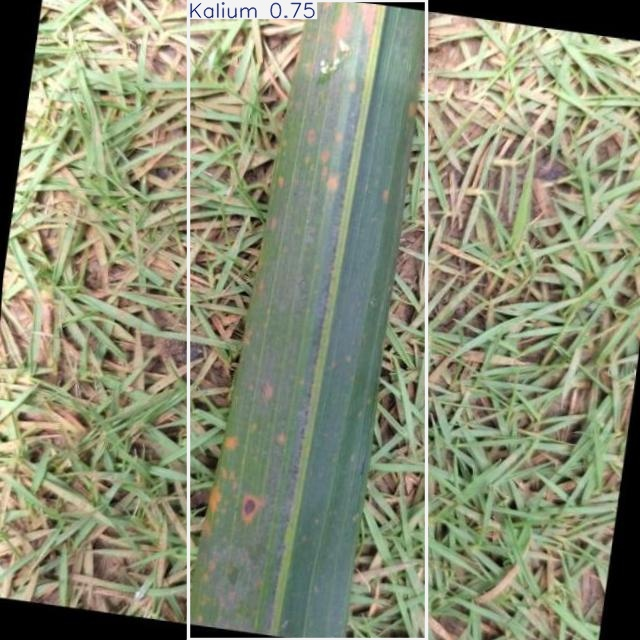Kalium: (188, 0, 427, 639)
